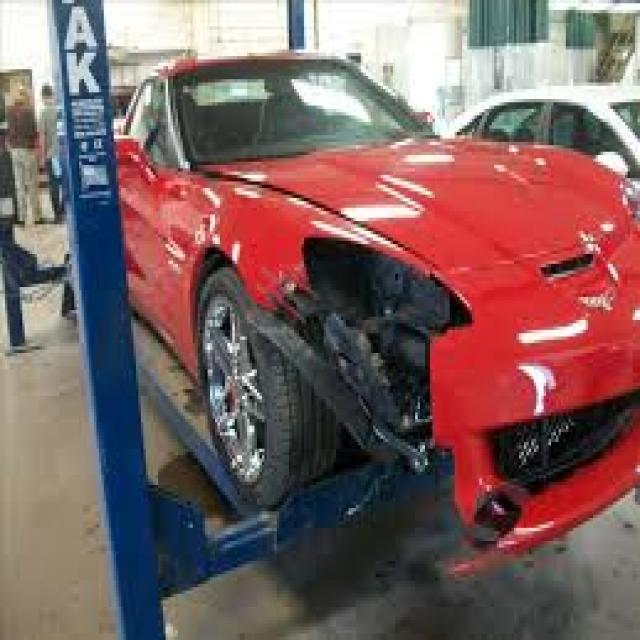moderate: (290, 182, 490, 498)
